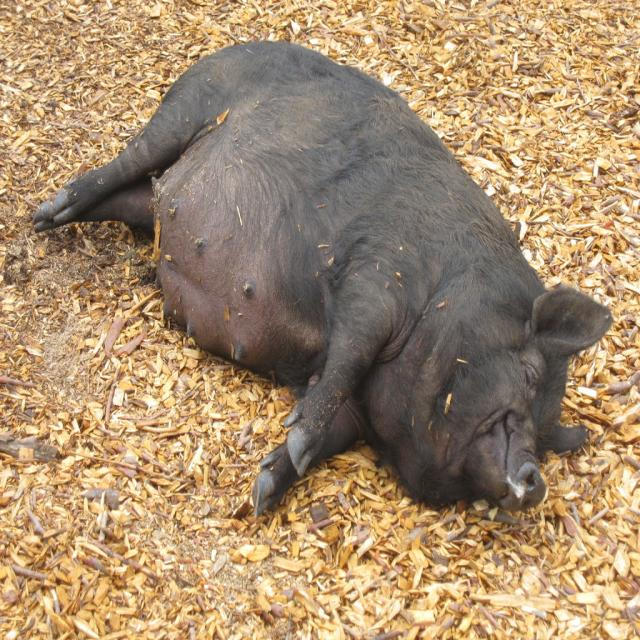Pig: (31, 36, 616, 524)
